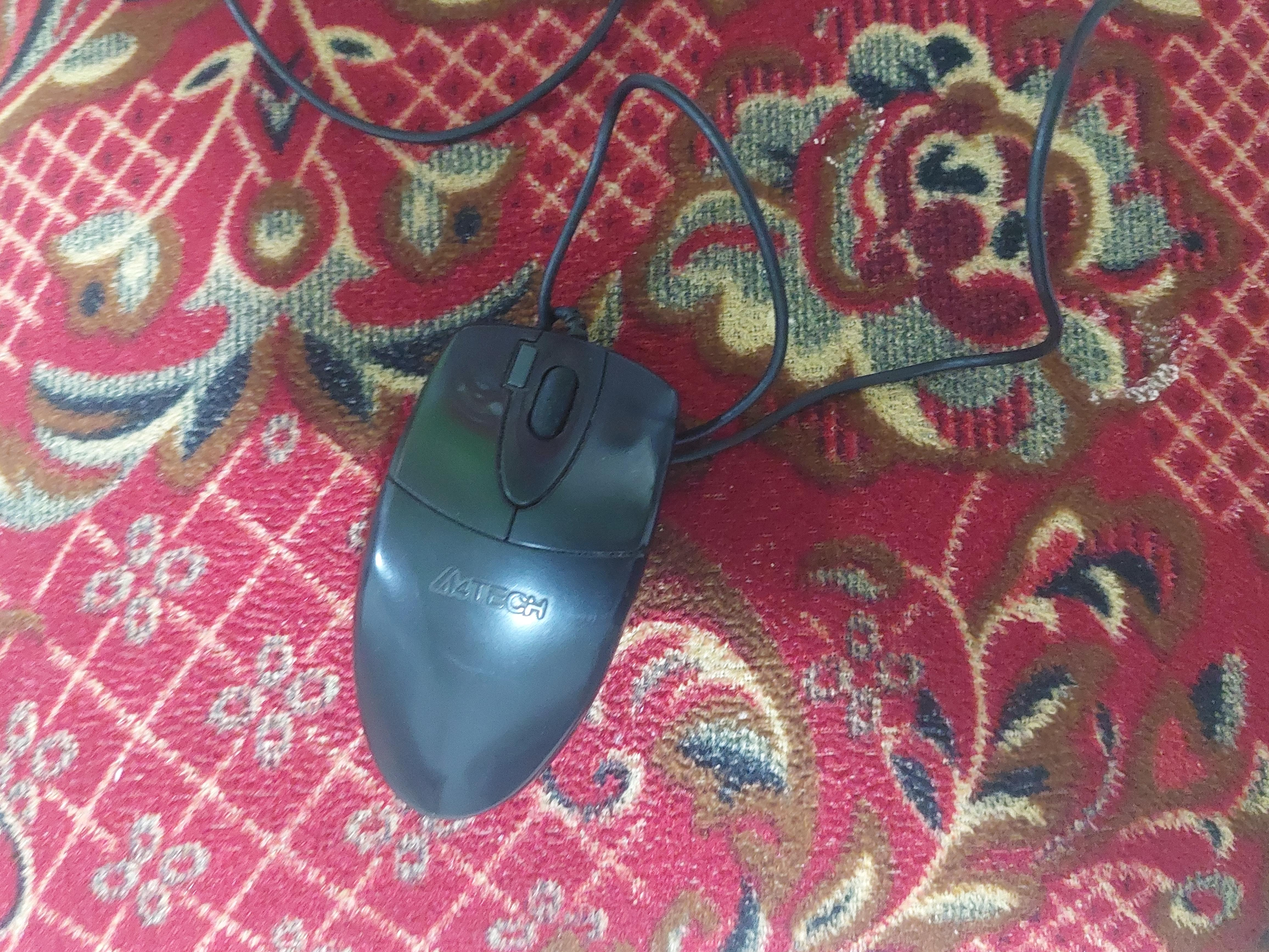mouse: (352, 323, 680, 819)
